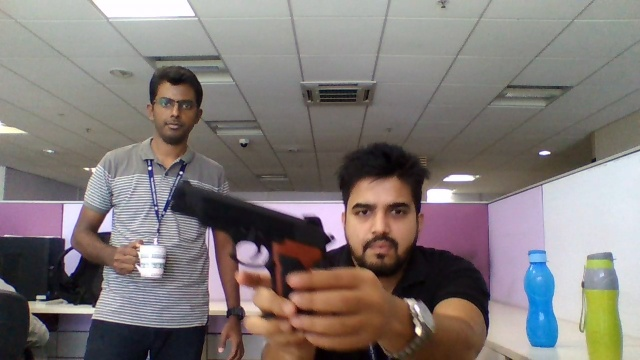gun: (170, 180, 333, 268)
